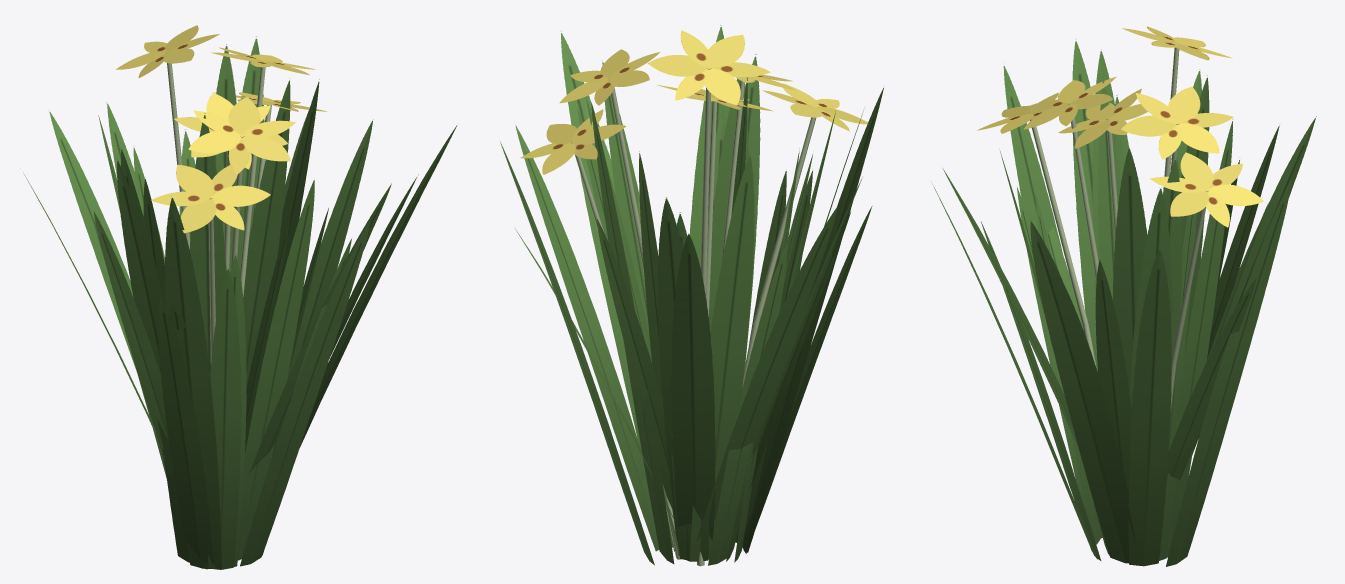
The model's file is dietes-bicolor.glb.
3 views of the same model, side by side, from view 1: azimuth 30°, elevation 25°; view 2: azimuth 150°, elevation 25°; view 3: azimuth 270°, elevation 25° (orthographic). The views are drawn at different scales.
Visible parts, largest first — view 1: folhas, flores, haste; view 2: folhas, flores, haste; view 3: folhas, flores, haste.
Part boxes in pixels (x1,y1,x2,y2): folhas: (23, 36, 457, 569); flores: (116, 25, 327, 233); haste: (166, 52, 271, 364); folhas: (500, 25, 883, 565); flores: (520, 30, 867, 174); haste: (571, 68, 816, 566); folhas: (931, 41, 1316, 566); flores: (977, 26, 1263, 227); haste: (1030, 47, 1208, 414).
Size of the model in its own units: 0.6 by 0.8 by 0.568.
Materials: 3 (2 with a texture image).
